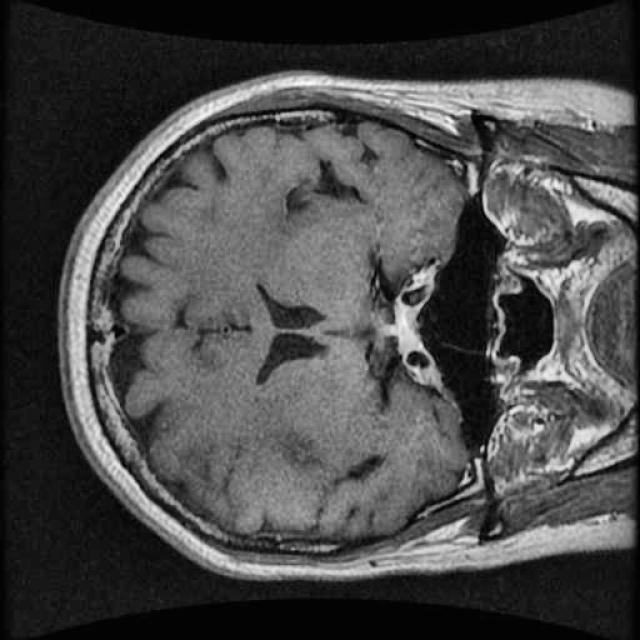Tumor: (391, 302, 430, 359)
